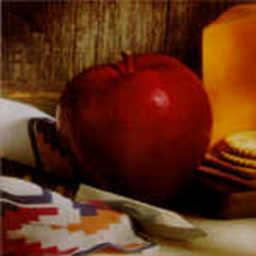apple: (54, 54, 212, 202)
